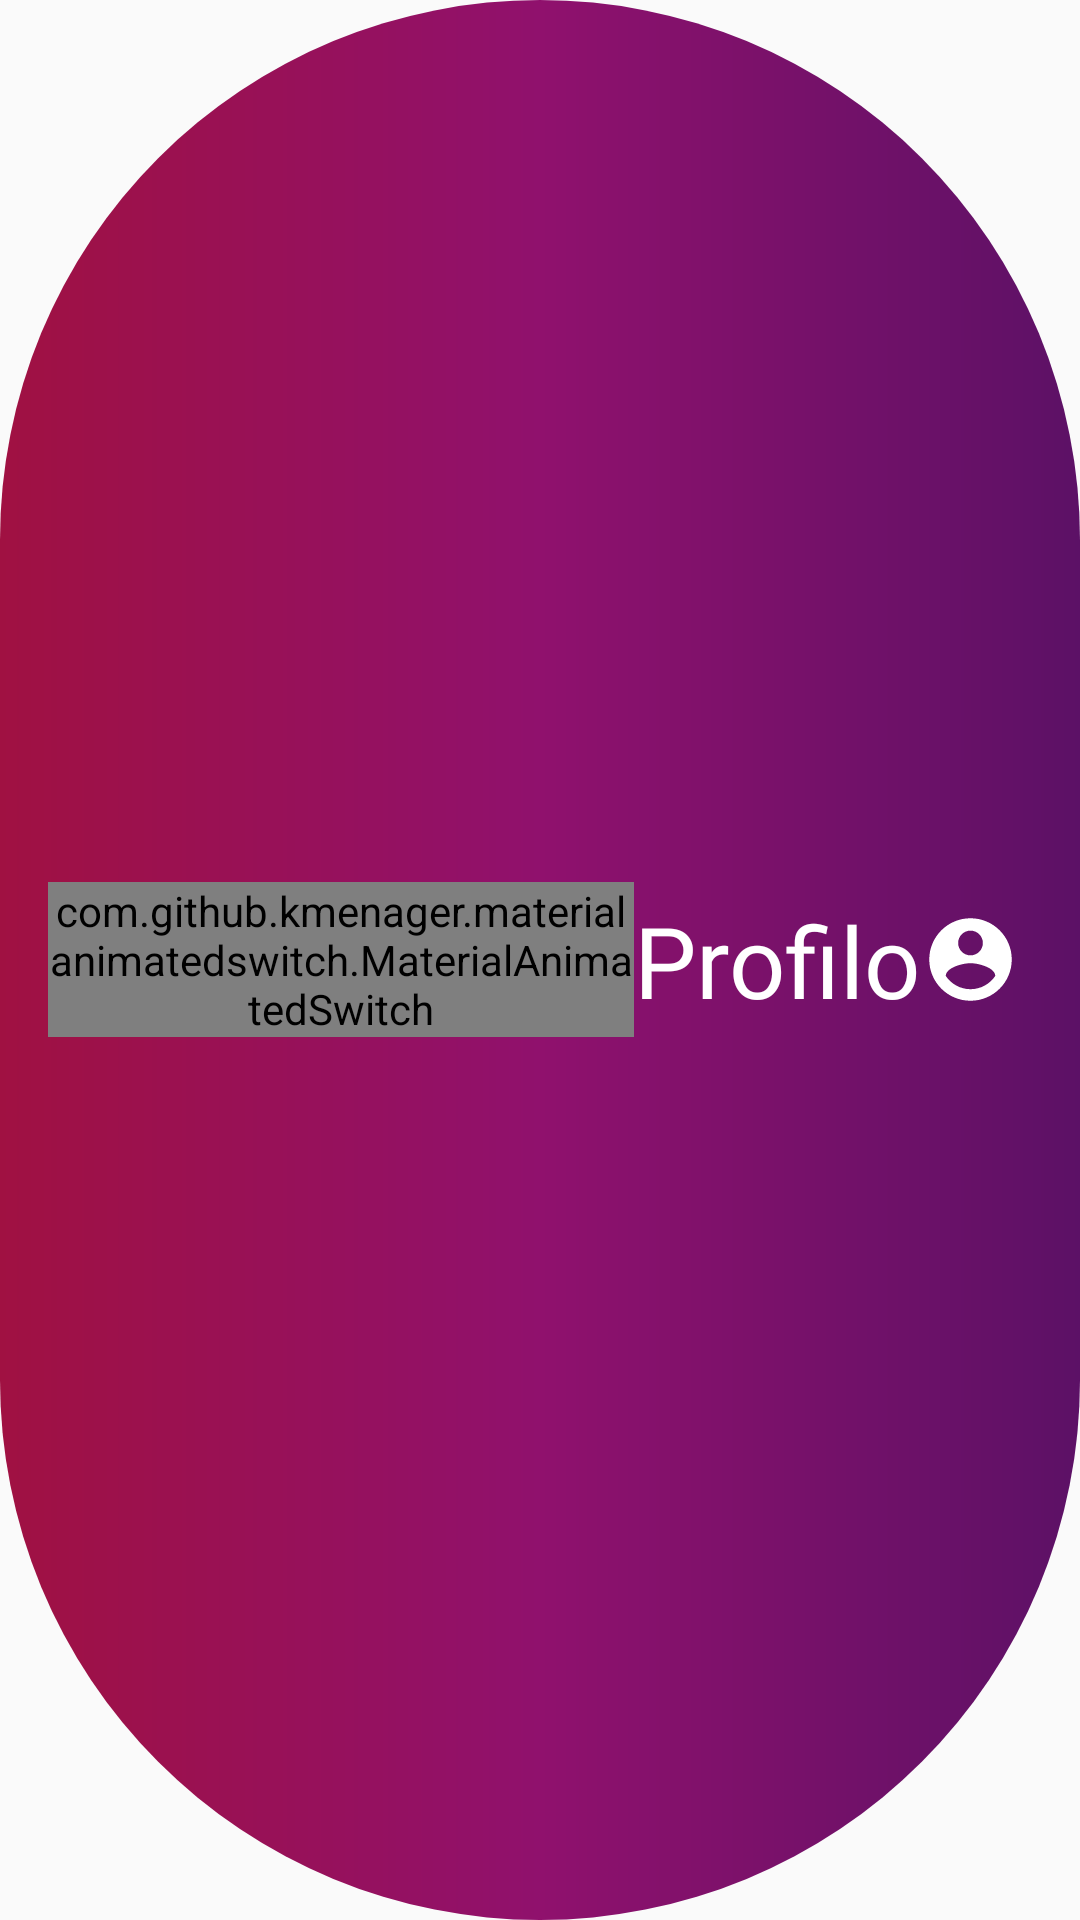

Screen size 1080px x 1920px. Icon name, then its center in pixels as point (x, y):
account circle: point (970, 959)
